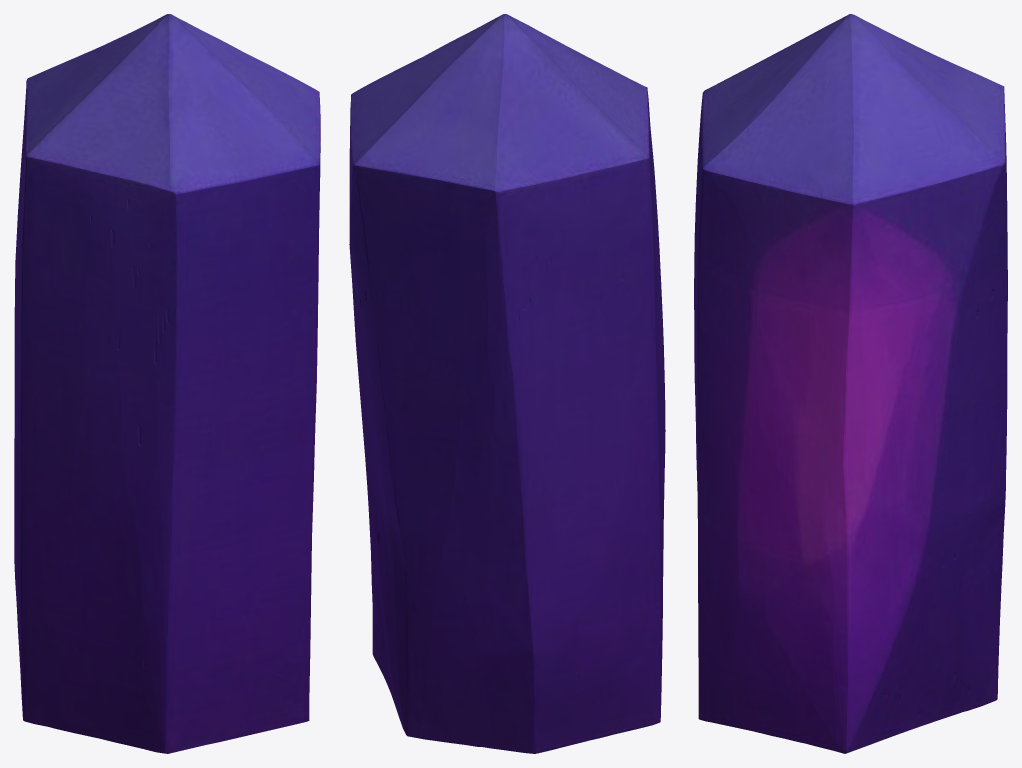
File: d_abimes_cristal.glb
3 views of the same model, side by side, from view 1: azimuth 30°, elevation 25°; view 2: azimuth 150°, elevation 25°; view 3: azimuth 270°, elevation 25° (orthographic).
Parts seen in each view (by area): view 1: geometry_0; view 2: geometry_0; view 3: geometry_0.
Boxes of the visible parts, x1=… form: geometry_0: x1=14, y1=14, x2=320, y2=753; geometry_0: x1=349, y1=14, x2=665, y2=753; geometry_0: x1=694, y1=14, x2=1007, y2=753.
Size of the model in its own units: 0.4732 by 1 by 0.4224.
1 material, 1 textured.
